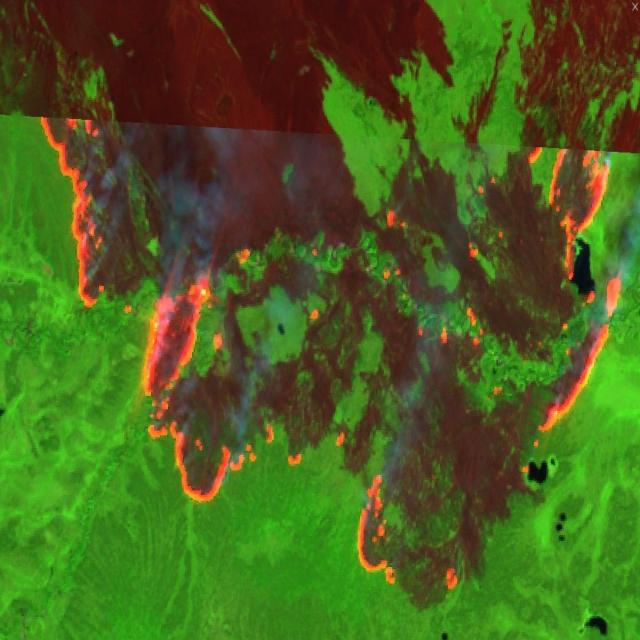fire: (37, 115, 640, 598)
